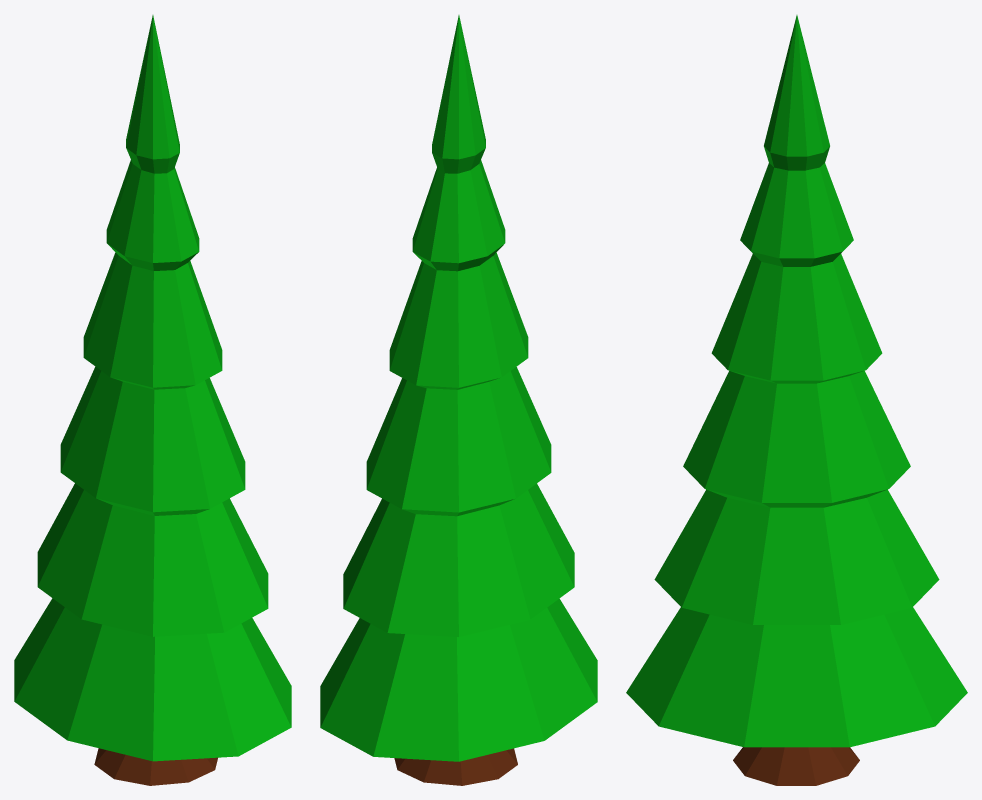
The model's file is pine tree for assignment 3.fbx.
3 views of the same model, side by side, from view 1: azimuth 30°, elevation 25°; view 2: azimuth 150°, elevation 25°; view 3: azimuth 270°, elevation 25° (orthographic).
Visible parts, largest first — view 1: Pine Tree; view 2: Pine Tree; view 3: Pine Tree.
Boxes of the visible parts, x1,y1,x2,y2 form: Pine Tree: (14, 15, 291, 785); Pine Tree: (320, 15, 597, 785); Pine Tree: (626, 15, 967, 785).
Size of the model in its own units: 473 by 1503 by 626.
